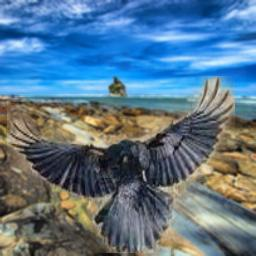Crow: (7, 76, 235, 253)
